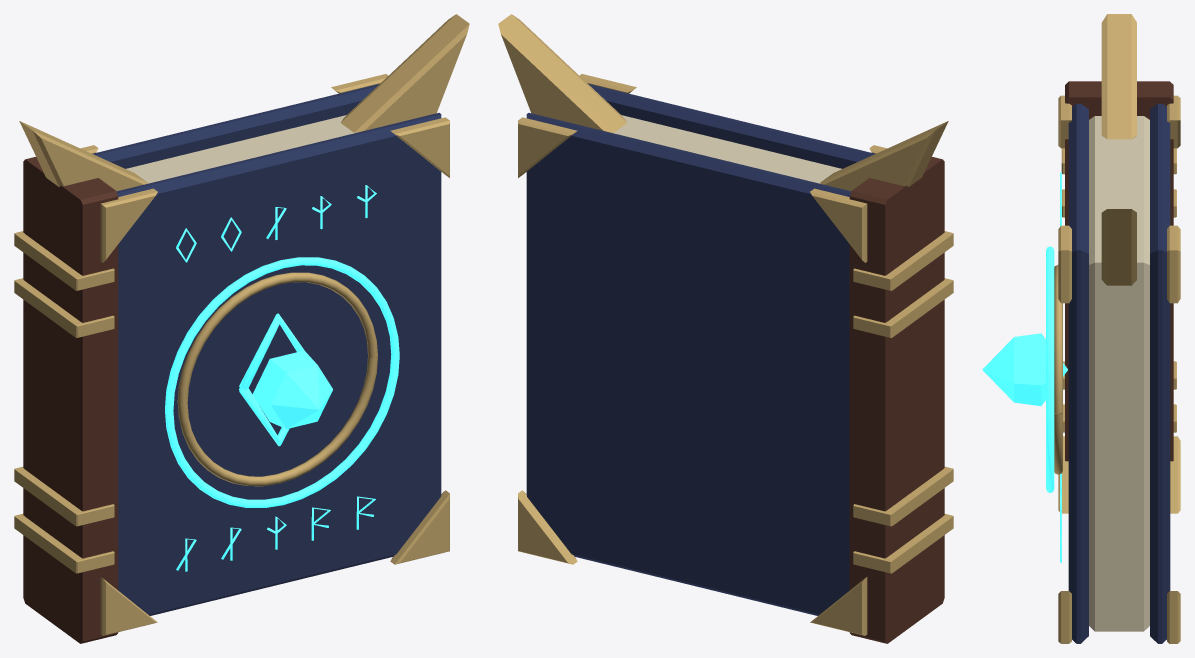
Rendered from spell-tome-legendary.glb.
The picture shows the model from 3 angles, left to right: view 1: azimuth 30°, elevation 25°; view 2: azimuth 150°, elevation 25°; view 3: azimuth 270°, elevation 25°; orthographic projection. The views are drawn at different scales.
Parts seen in each view (by area): view 1: spell-tome__legendary; view 2: spell-tome__legendary; view 3: spell-tome__legendary.
Part boxes in pixels (left/top/right/bottom): spell-tome__legendary: left=14, top=14, right=469, bottom=643; spell-tome__legendary: left=498, top=14, right=953, bottom=643; spell-tome__legendary: left=982, top=14, right=1180, bottom=643.
Size of the model in its own units: 0.34 by 0.375 by 0.1459.
